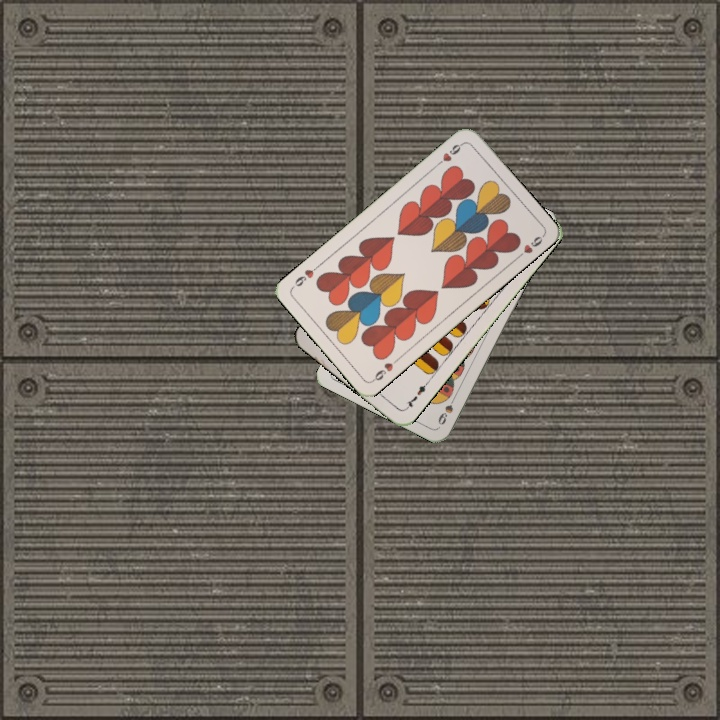E7: (401, 378, 431, 412)
H9: (368, 354, 402, 384), (432, 139, 466, 169)
S9: (434, 391, 459, 428)
